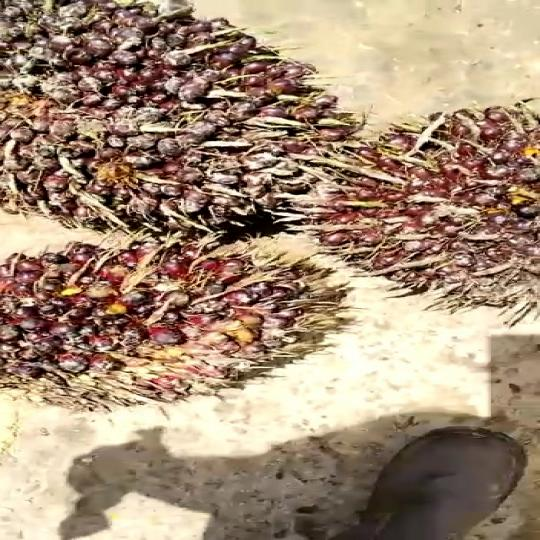kurang masak: (0, 0, 347, 255), (0, 243, 374, 413), (315, 105, 540, 306)
